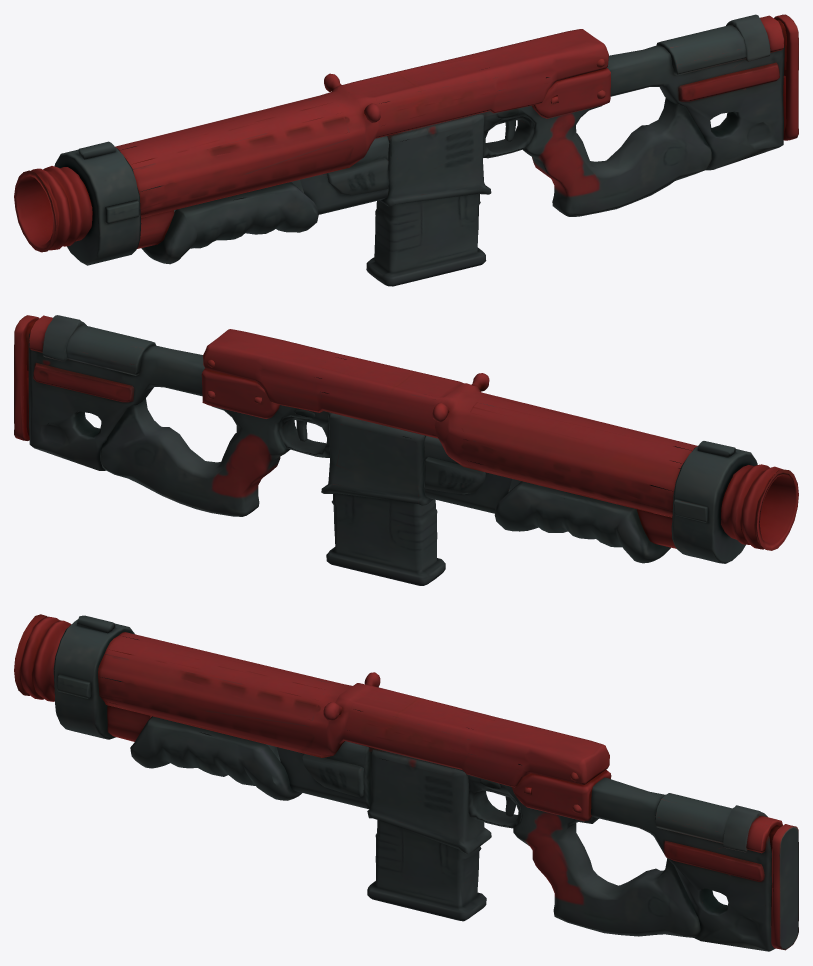
File: shotgun.glb
3 views of the same model, one above another, from view 1: azimuth 30°, elevation 25°; view 2: azimuth 150°, elevation 25°; view 3: azimuth 330°, elevation 25° (orthographic).
Parts seen in each view (by area): view 1: geometry_0; view 2: geometry_0; view 3: geometry_0.
Part boxes in pixels (x1,y1,x2,y2): geometry_0: (14, 14, 798, 286); geometry_0: (14, 315, 798, 585); geometry_0: (14, 614, 798, 951).
Bounding box in the file's own units: 1 × 0.2576 × 0.1186.
Materials: 1 (1 with a texture image).
